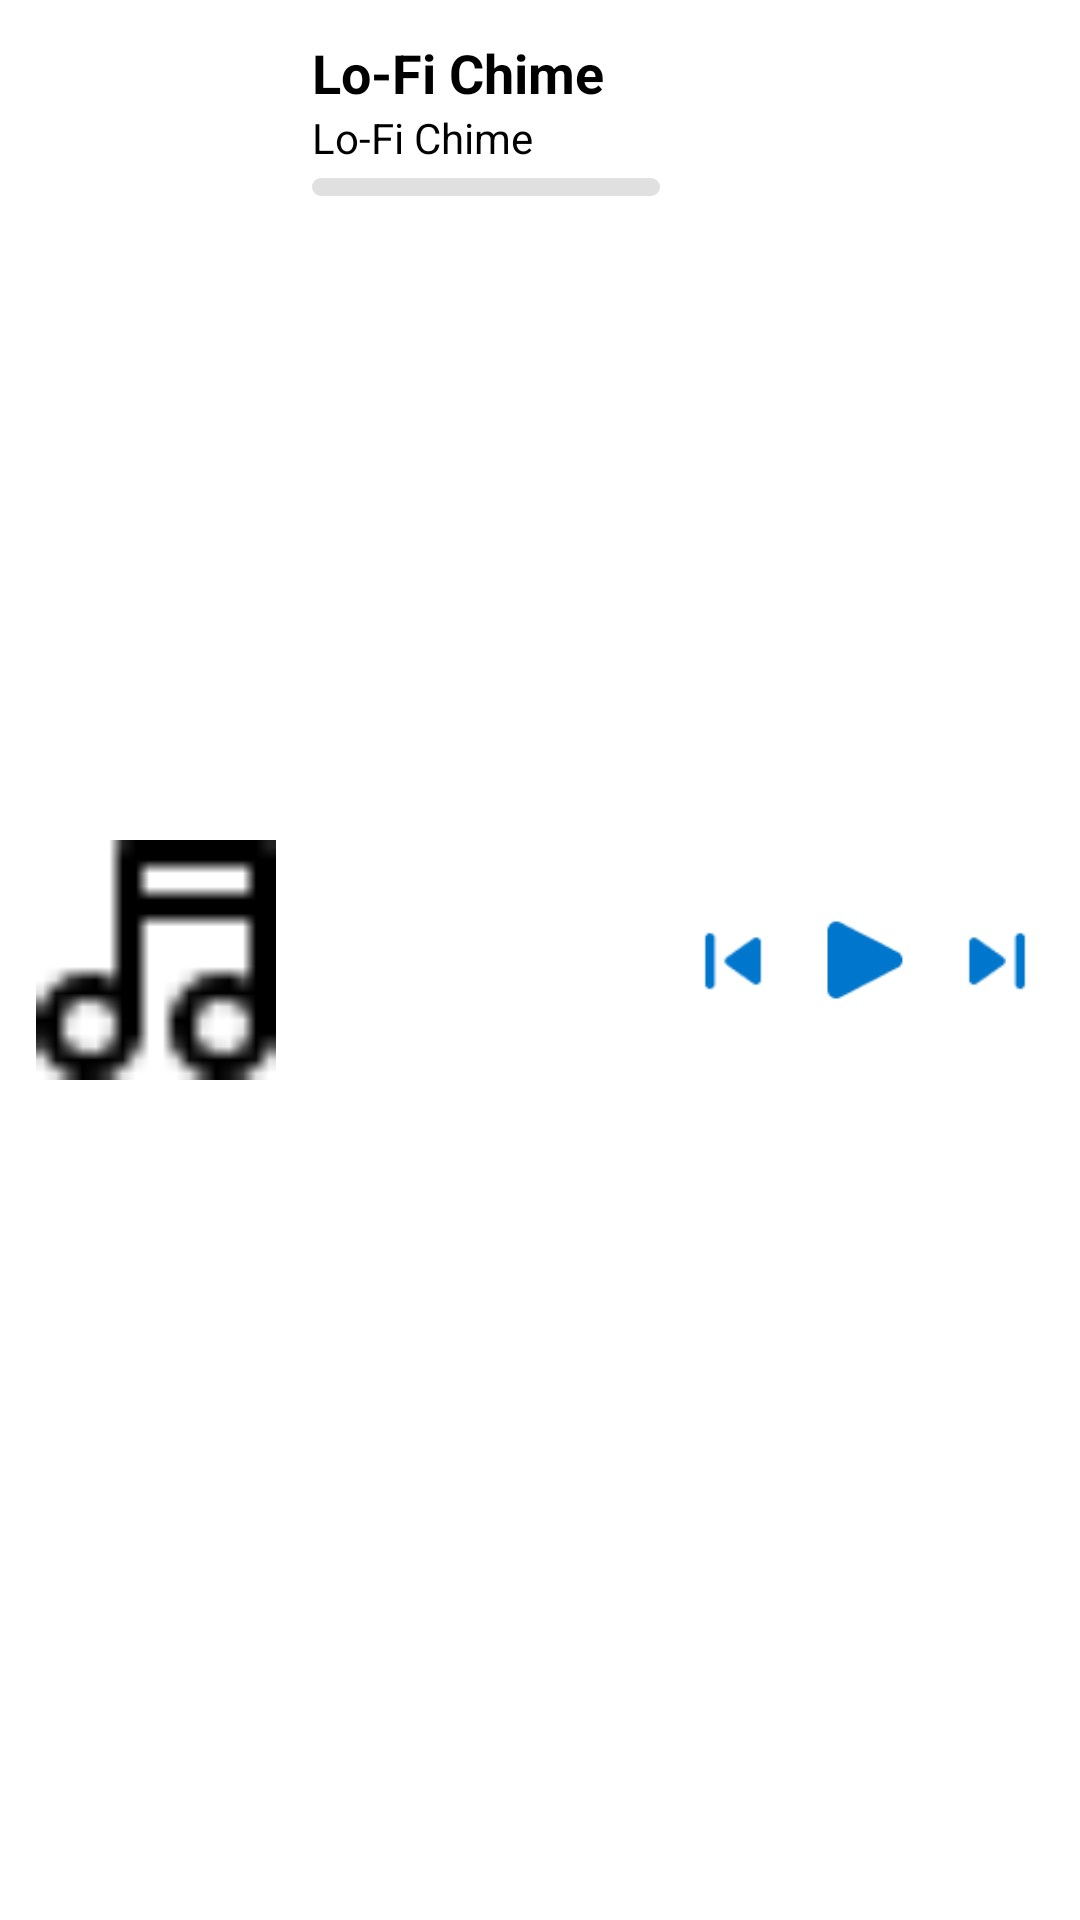

Named icons in this screenshot (1080x1920) and their centers, point (x, y):
bigplay: point (865, 960)
next: point (997, 961)
prev: point (733, 961)
